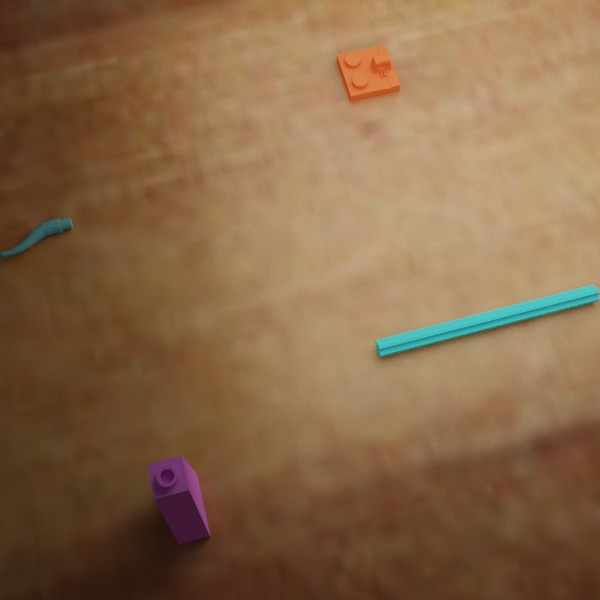lego: (375, 284, 600, 357), (147, 455, 210, 544), (336, 44, 400, 102), (0, 217, 72, 257)
